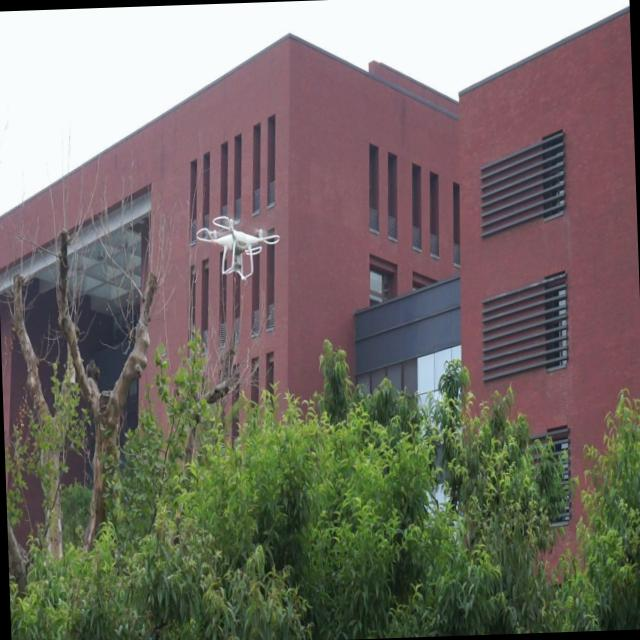drone: (195, 210, 282, 284)
